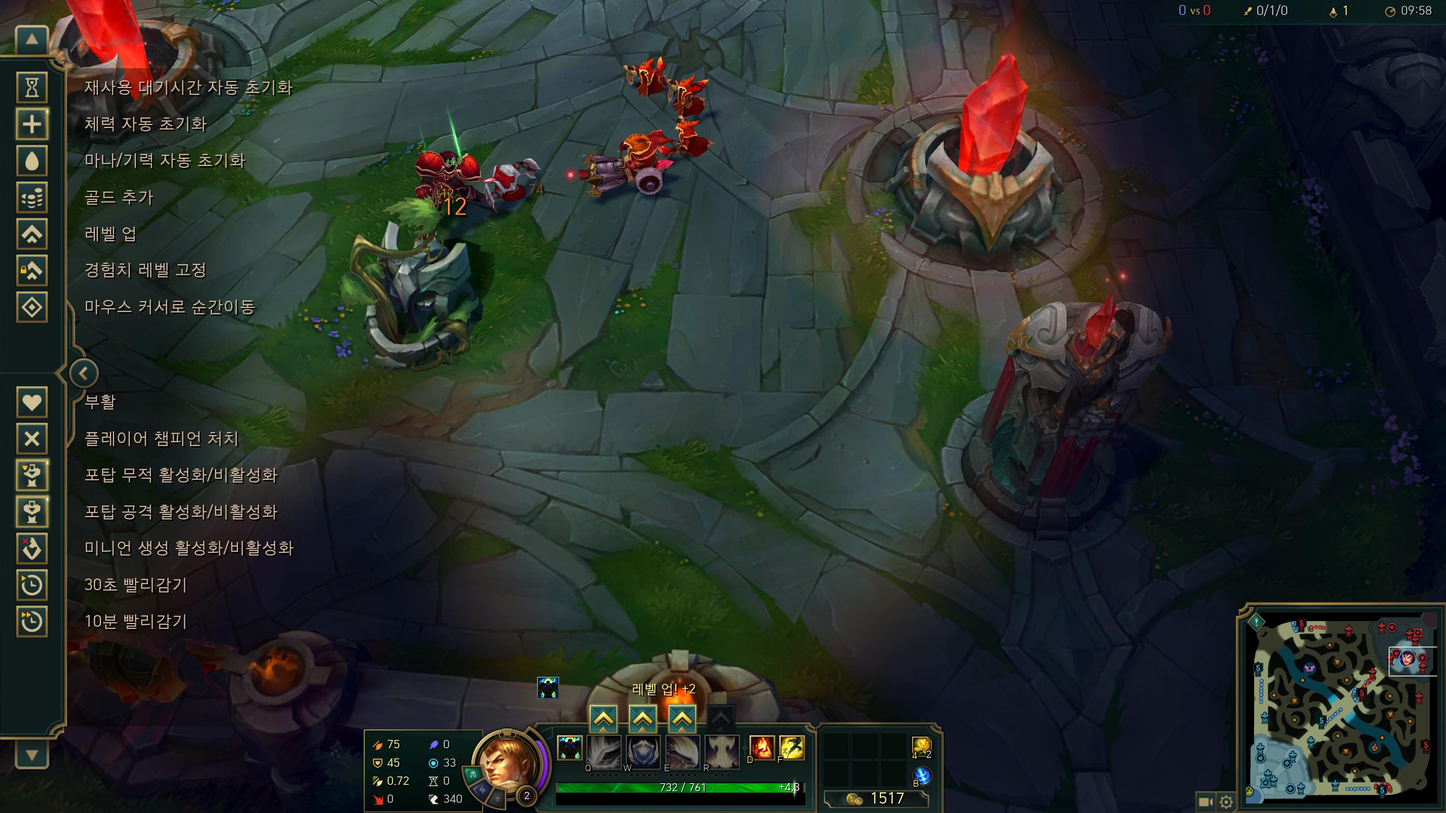enemy-caster-minion: (623, 55, 668, 95), (668, 72, 708, 115), (676, 116, 713, 155)
enemy-inhibitor: (846, 50, 1107, 288)
enemy-melee-minion: (484, 156, 539, 209)
enemy-siege-minion: (566, 128, 676, 196)
enemy-tower: (943, 297, 1174, 545)
